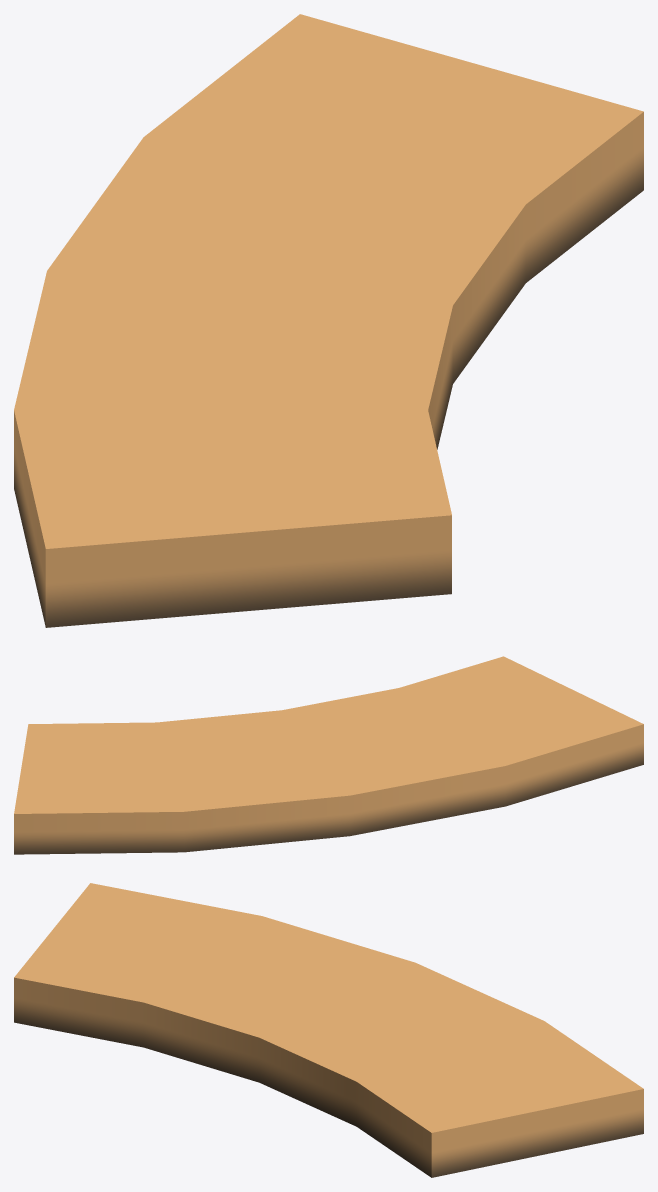
3 renders of one model, top to bottom at view 1: azimuth 30°, elevation 25°; view 2: azimuth 150°, elevation 25°; view 3: azimuth 270°, elevation 25°, orthographic. The views are drawn at different scales.
Visible parts, largest first — view 1: Base03; view 2: Base03; view 3: Base03.
Part boxes in pixels (x1,y1,x2,y2): Base03: (14, 14, 643, 627); Base03: (14, 656, 643, 854); Base03: (14, 883, 643, 1177).
Size of what is drawn, in the model's own units: 21.81 by 1.83 by 23.23.
Materials: 1 (1 with a texture image).
